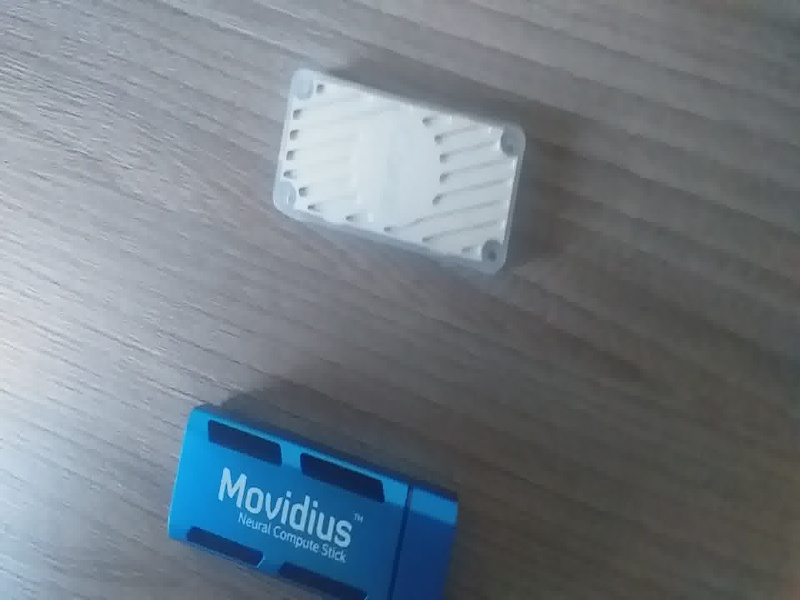coral: (266, 70, 540, 286)
movidius: (154, 397, 467, 600)
